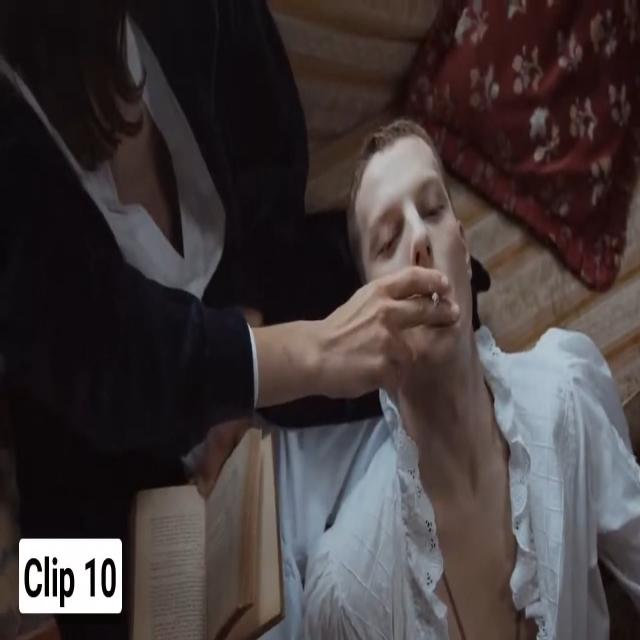Курение: (425, 278, 446, 316)
